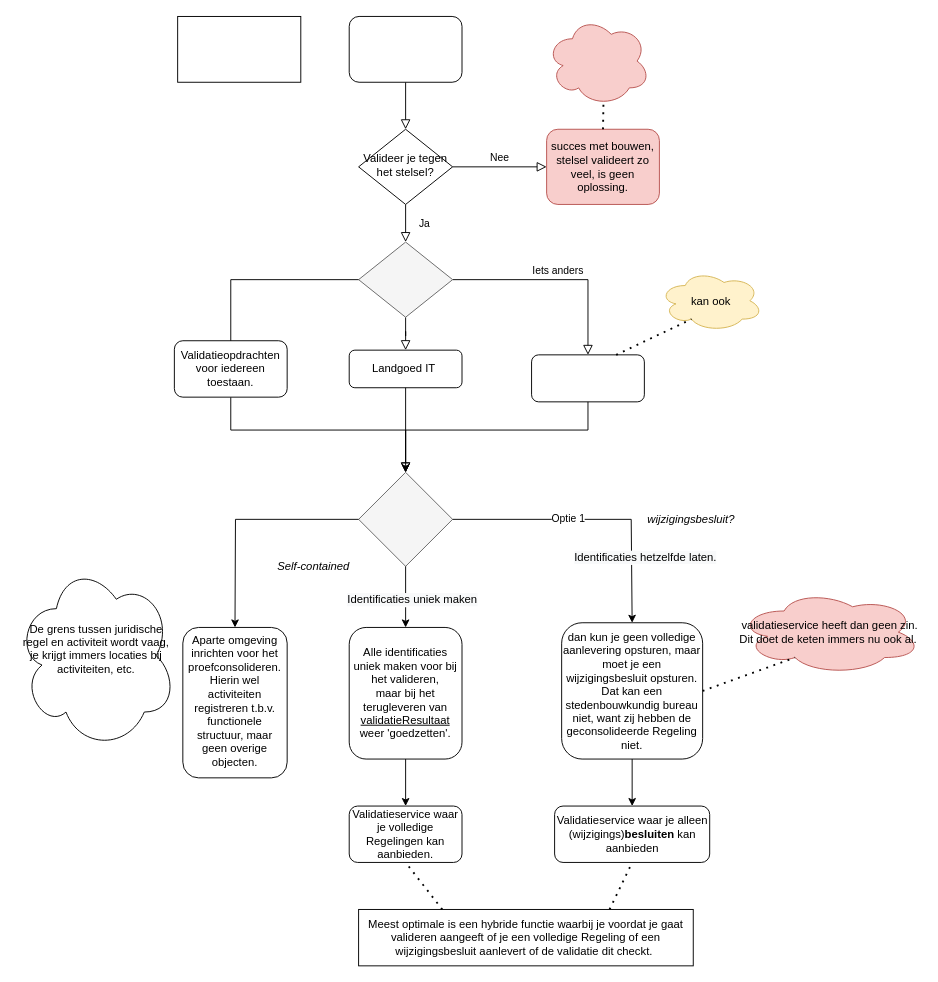
Image size: 938x982. Some labels were removed from this diagram. The shapes that lost their labels are listed below. From the top down, each one's centre as x and y in pixels, then its label:
the point at 239,49: 2 Problemen: 1. Waar valideer je? 2. Hoe valideer je?
the point at 405,49: Stedenbouwkundig bureaus moeten kunnen valideren
the point at 598,61: Ik durf hier niet eens over na te denken.
the point at 405,279: Probleem 1. mandatering
the point at 587,378: Een andere partij die de keten kan aanroepen inrichten.
the point at 405,518: Probleem 2. Self-contained/duplicate ID's
